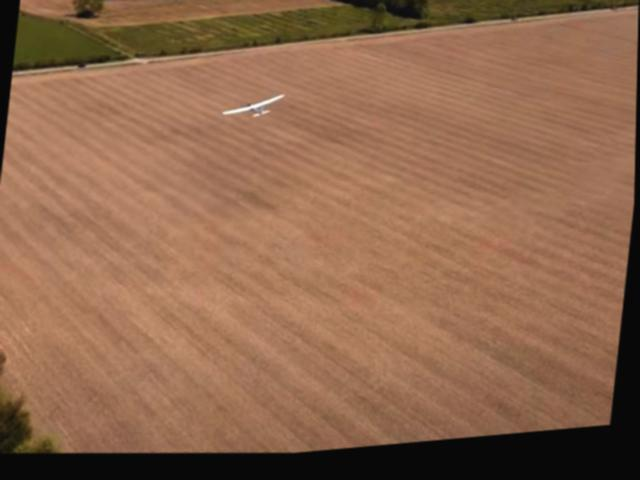iha: (222, 94, 284, 127)
